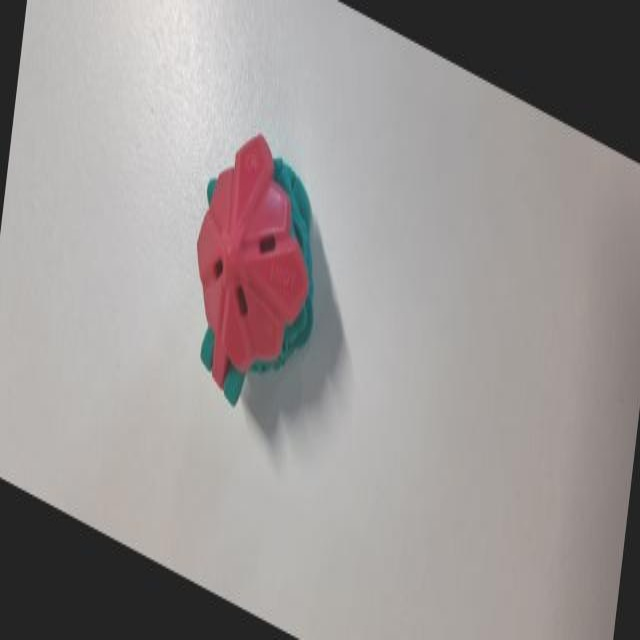House: (170, 59, 347, 456)
